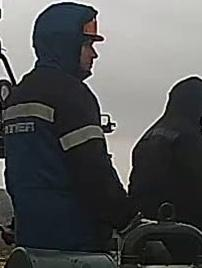helmet: (80, 12, 107, 42)
vest: (0, 69, 113, 251), (127, 118, 202, 217)
